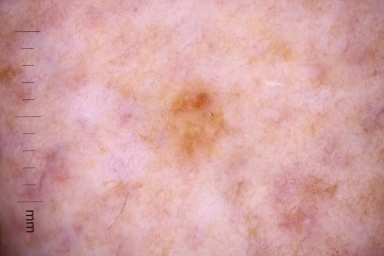nevus: (161, 88, 236, 157)
